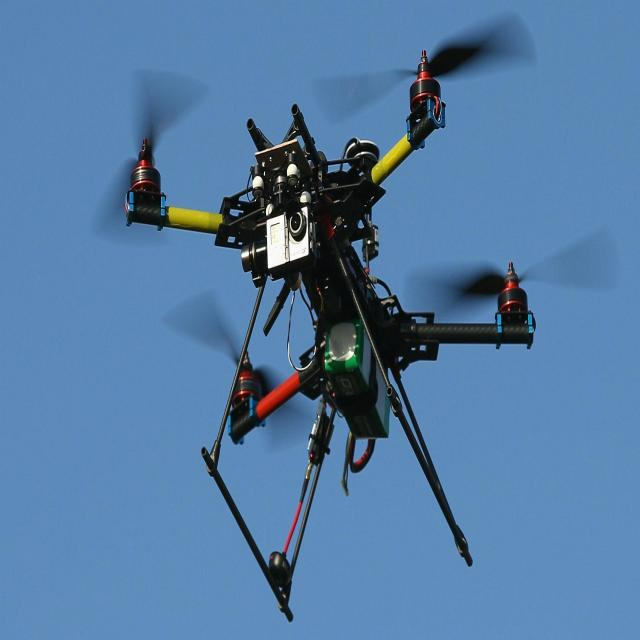UAV: (120, 40, 539, 628)
